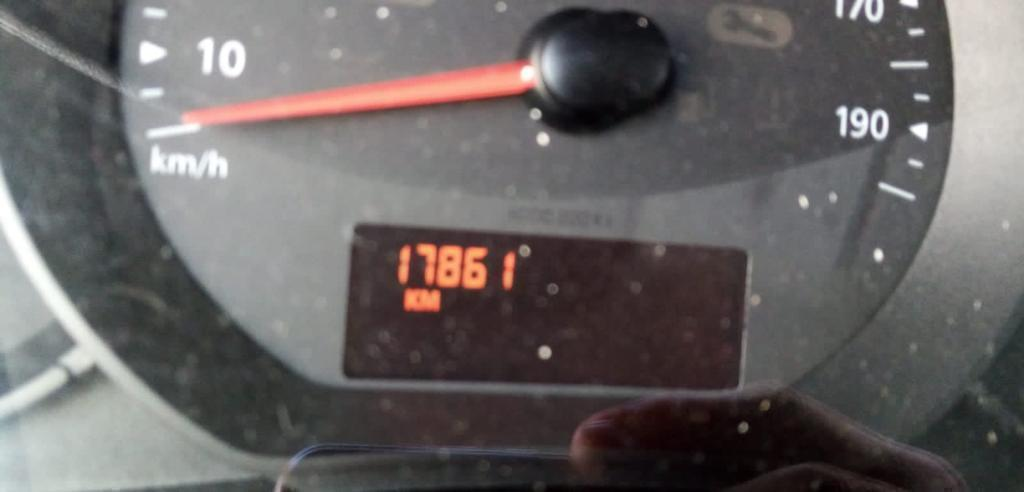1: (392, 239, 412, 286), (499, 246, 516, 298)
6: (462, 244, 490, 290)
7: (415, 240, 436, 285)
8: (437, 242, 461, 289)
X: (419, 287, 443, 313), (403, 286, 419, 313)
odometer: (337, 222, 753, 395)
